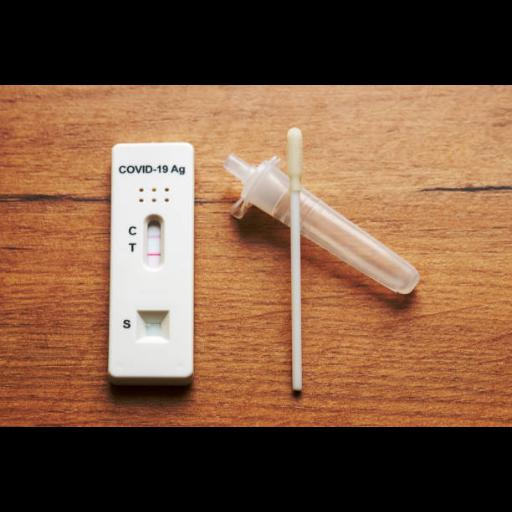Pos: (112, 142, 190, 376)
